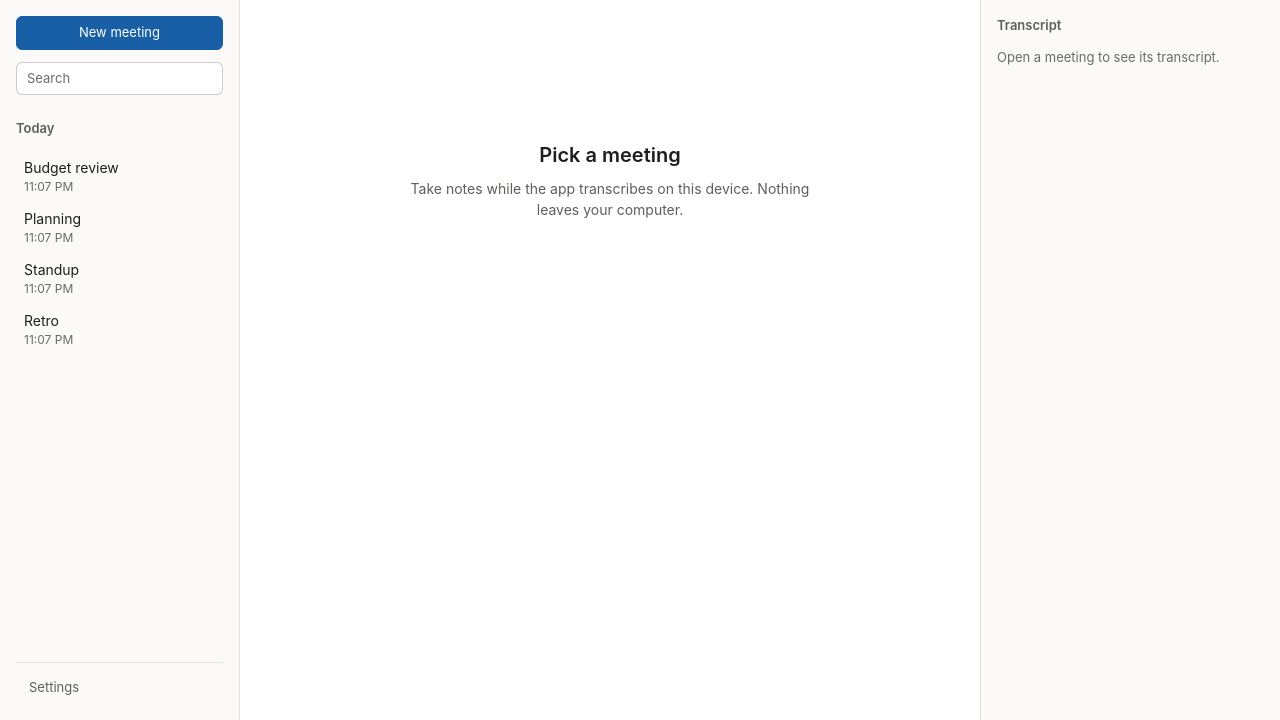
Test: App › search › finds meetings by title, notes, or transcript
The image size is (1280, 720).
Check: the button "Retro 11:07 PM" is shown, box [16, 304, 223, 354]
Step 1. Type "budg" into the search field named "Search meetings" → (120, 78), box [16, 62, 223, 95]
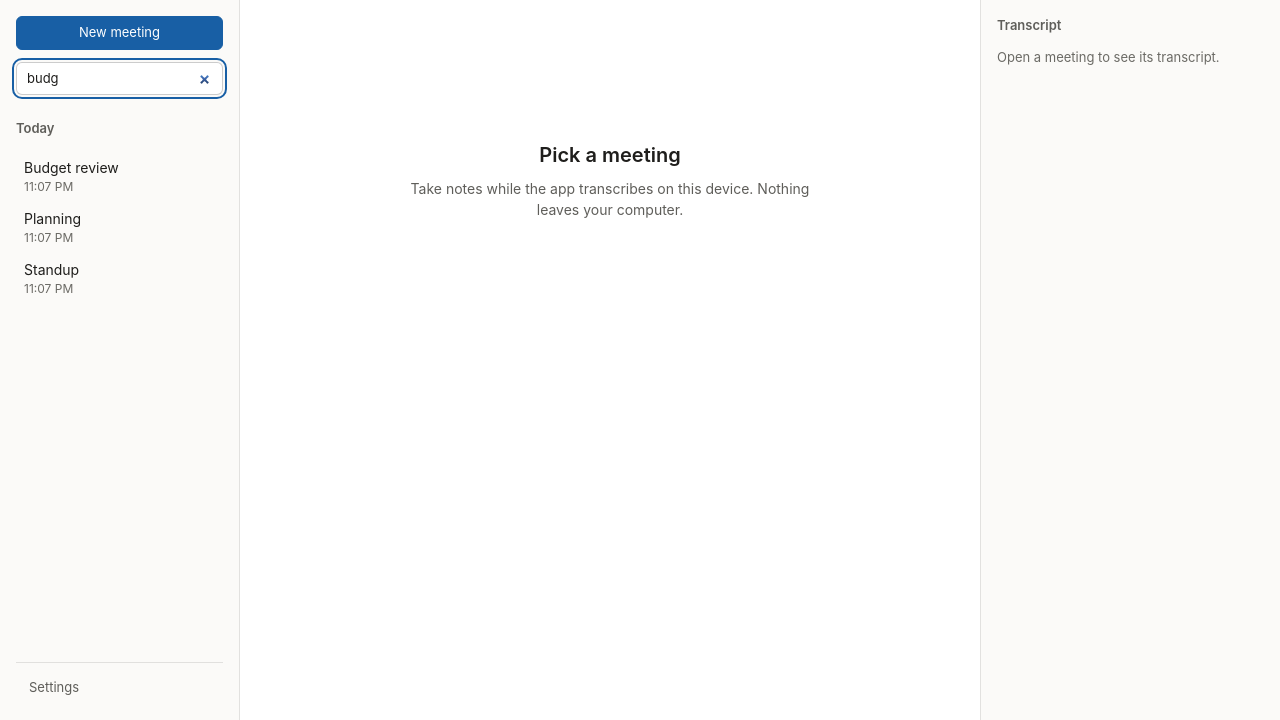
Check: the button "Budget review 11:07 PM" is shown, box [16, 150, 223, 202]
Check: the button "Retro" is gone
